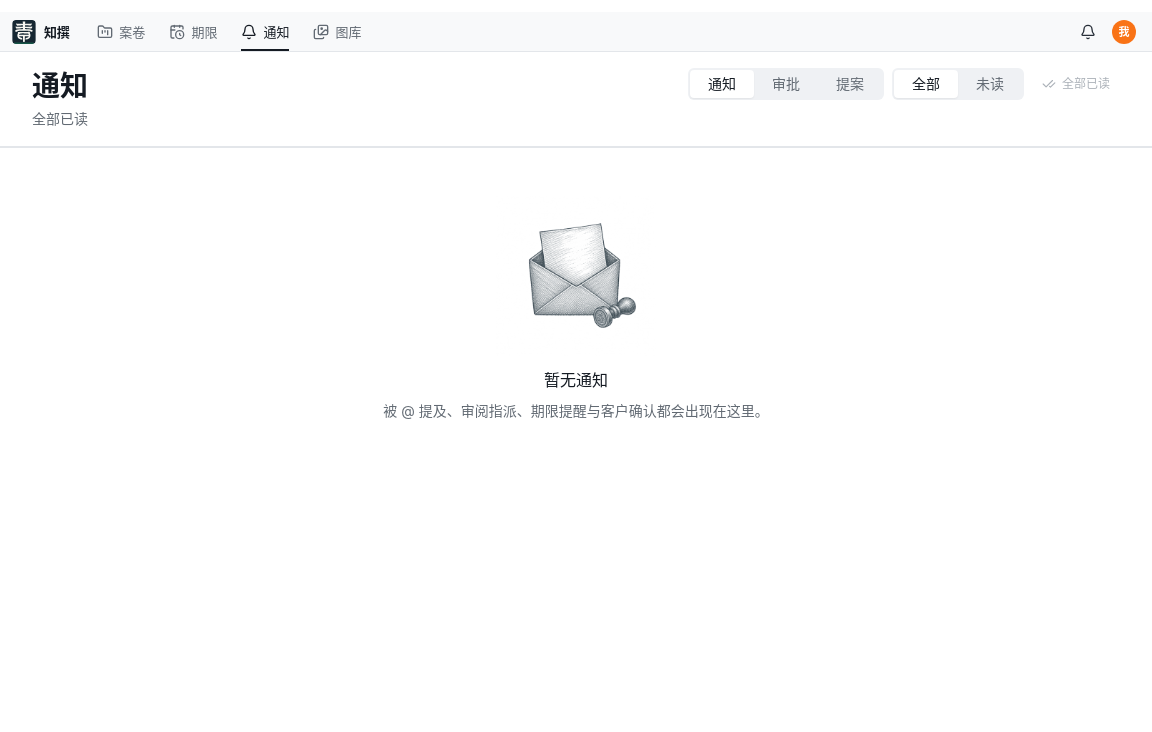
Test: M2 inbox 页签：#/inbox?tab= 并入审批与提案 › 切到提案 tab → hash 回写 + 跨案分页收件箱（本页分组渲染、total/翻页）
This screenshot has width=1152, height=732.
Click the radio button with test id "inbox-tab-proposals".
click(850, 84)  # box [818,70,882,98]
(page scrolled)
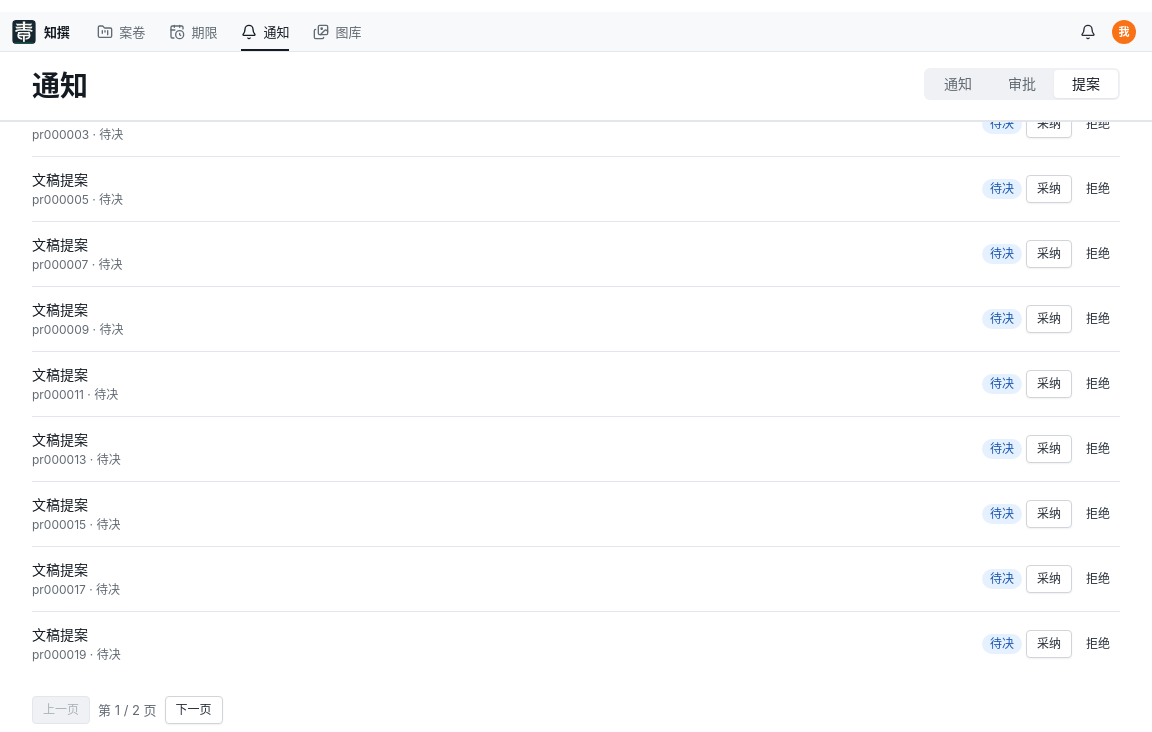
Click the button "下一页".
click(194, 710)  # box [165,696,223,724]
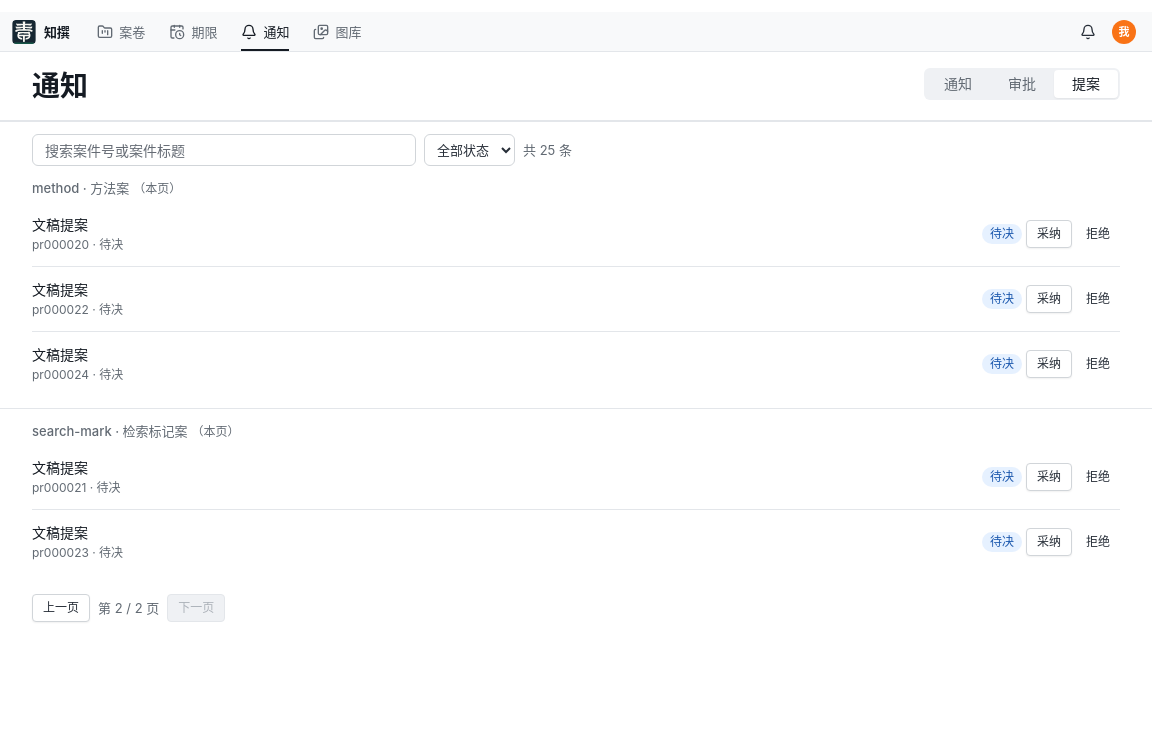
Result: the list item with test id "inbox-proposal-pr000024" is shown at [32,346,1120,382]
Result: the element with test id "inbox-pager" shows "第 2 / 2 页" at [32,594,225,622]
